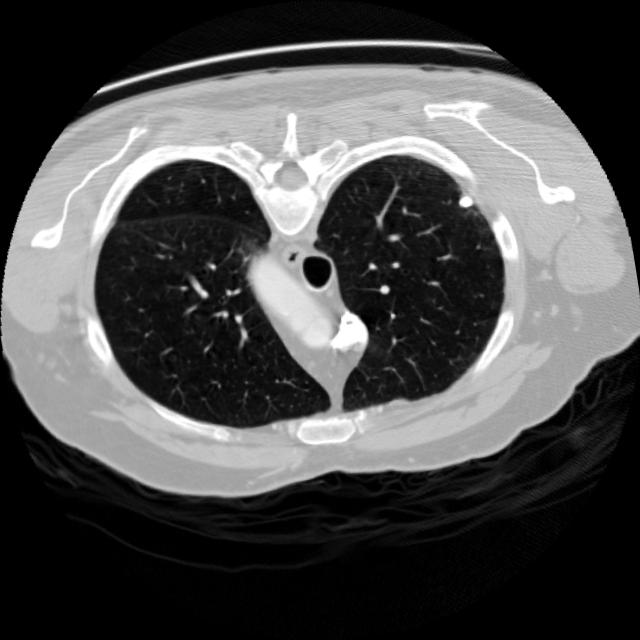nodule: (448, 183, 484, 220)
